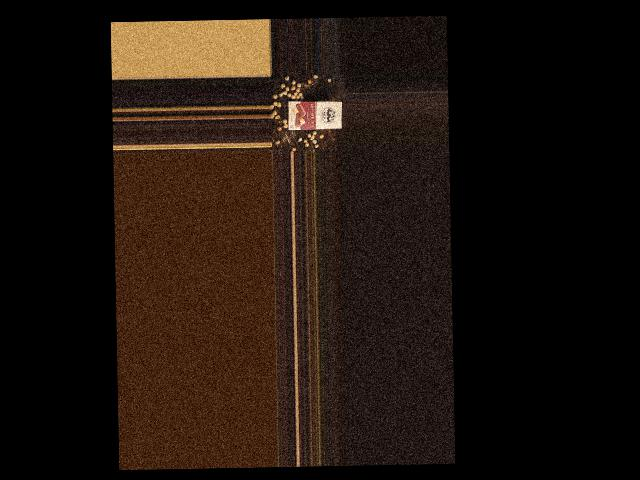chocolate: (286, 97, 343, 131)
